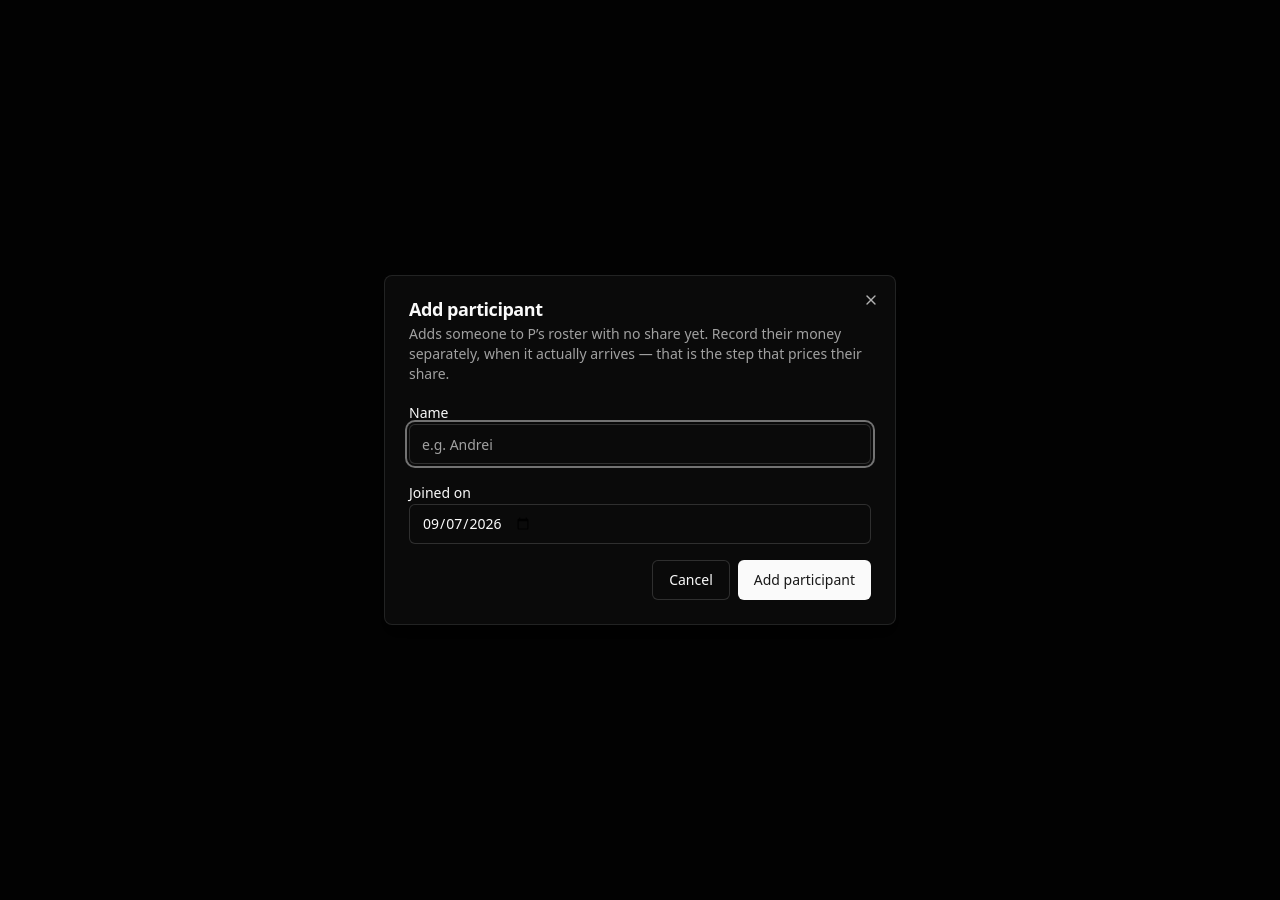
Test: a guard rejection lands inline, next to the form › add participant
The image size is (1280, 900).
In the field with test id "participant-name-input": [640, 444] box [409, 424, 871, 464], type "Andrei"
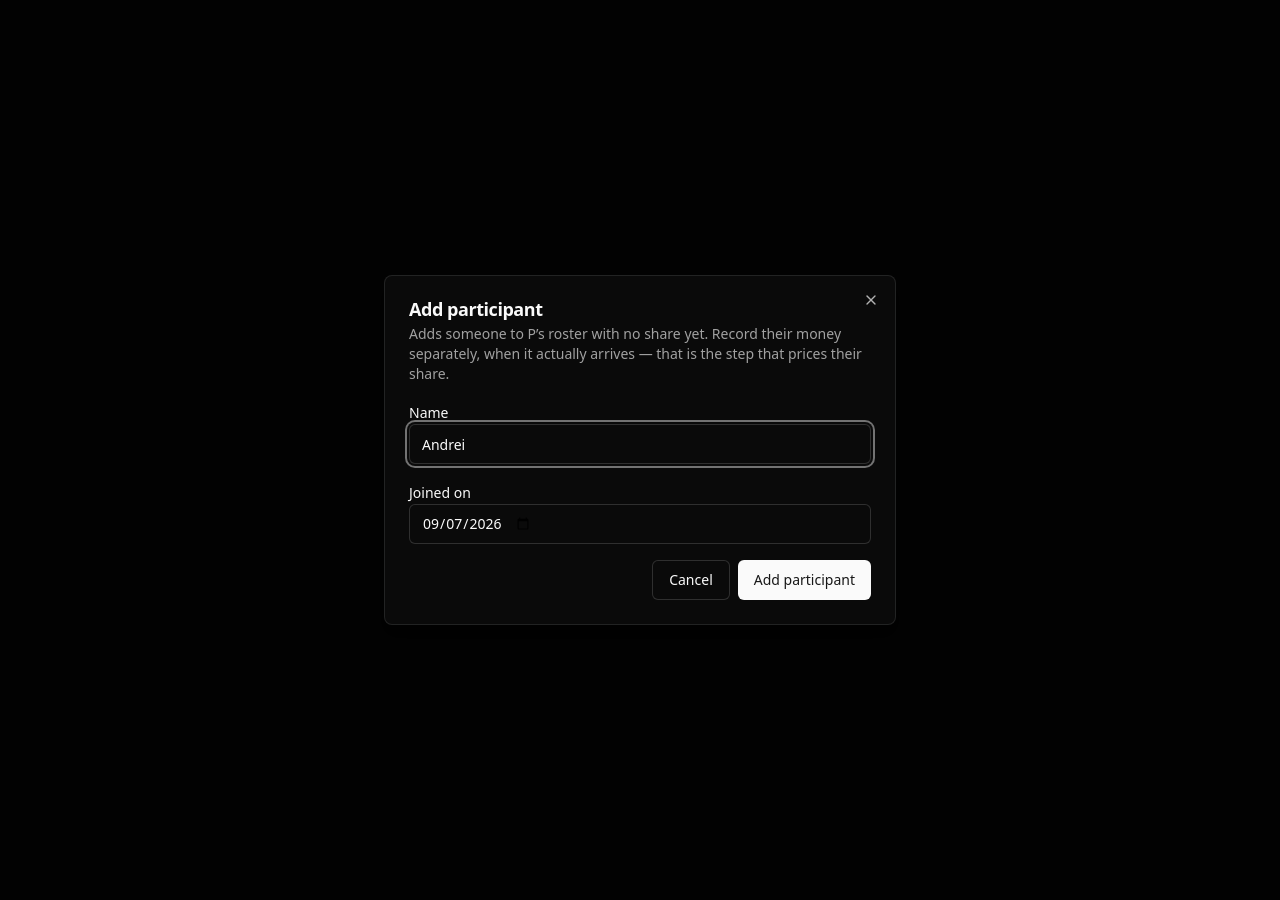
Click the button with test id "participant-submit-button": [804, 580] box [738, 560, 871, 600]
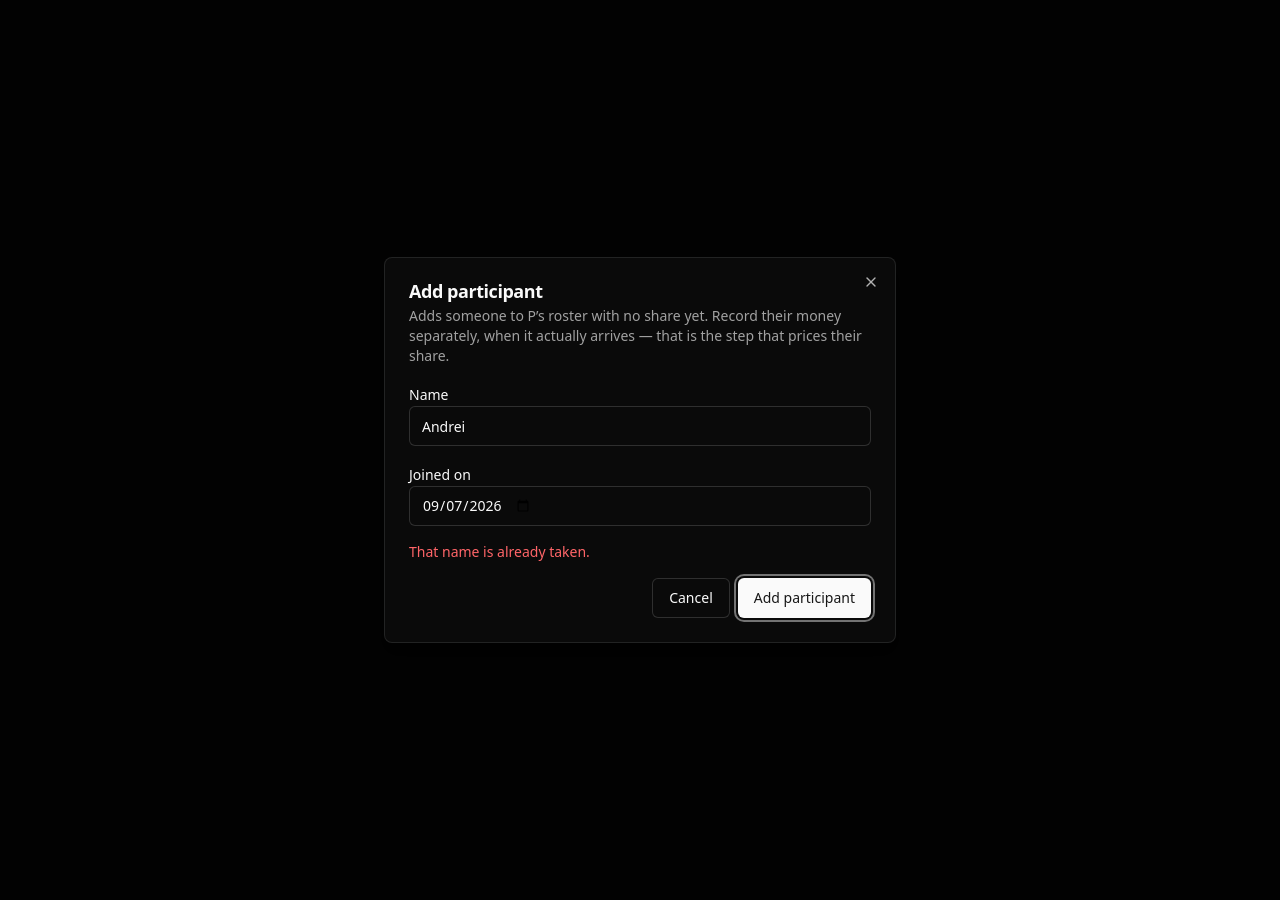
Expected: the message with test id "add-participant-error" reads "That name is already taken.", [409, 542, 590, 561]
